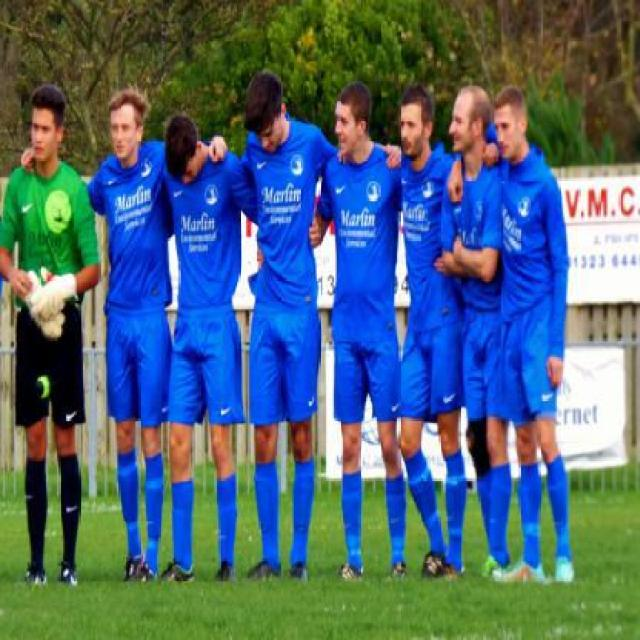Person: (0, 59, 571, 596), (0, 80, 102, 582)
